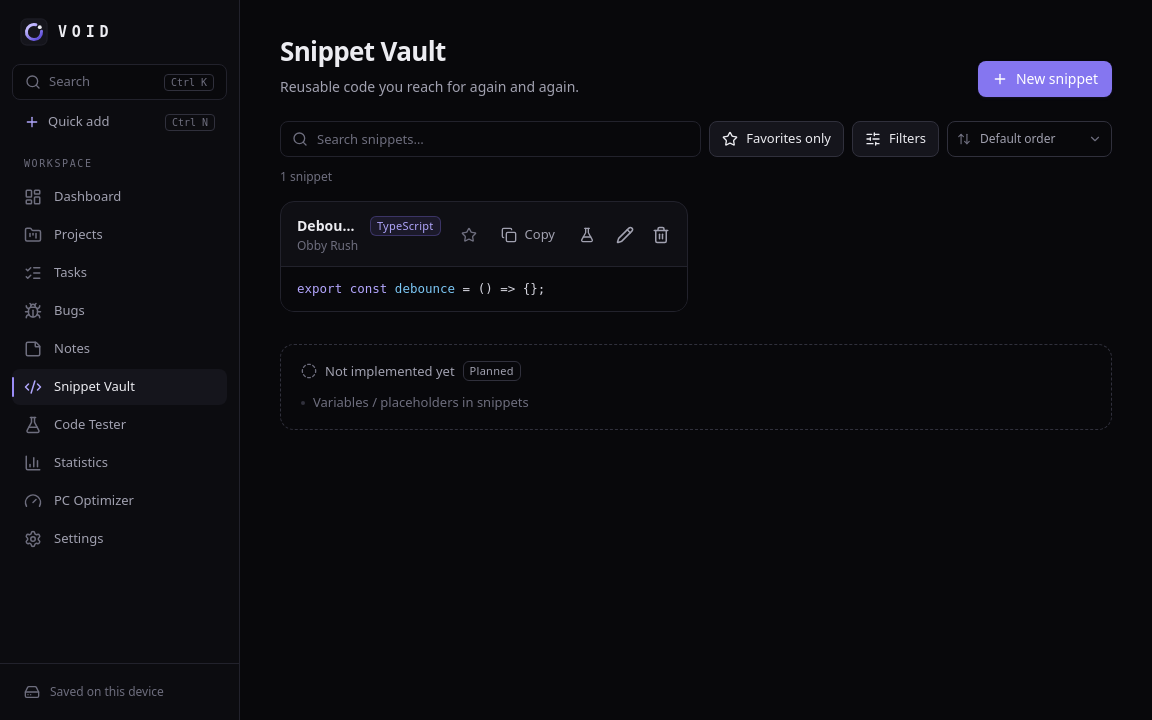
Test: undo after delete › restores a deleted snippet
Click the button named "Delete Debounce" at (661, 235), box [643, 217, 679, 253]
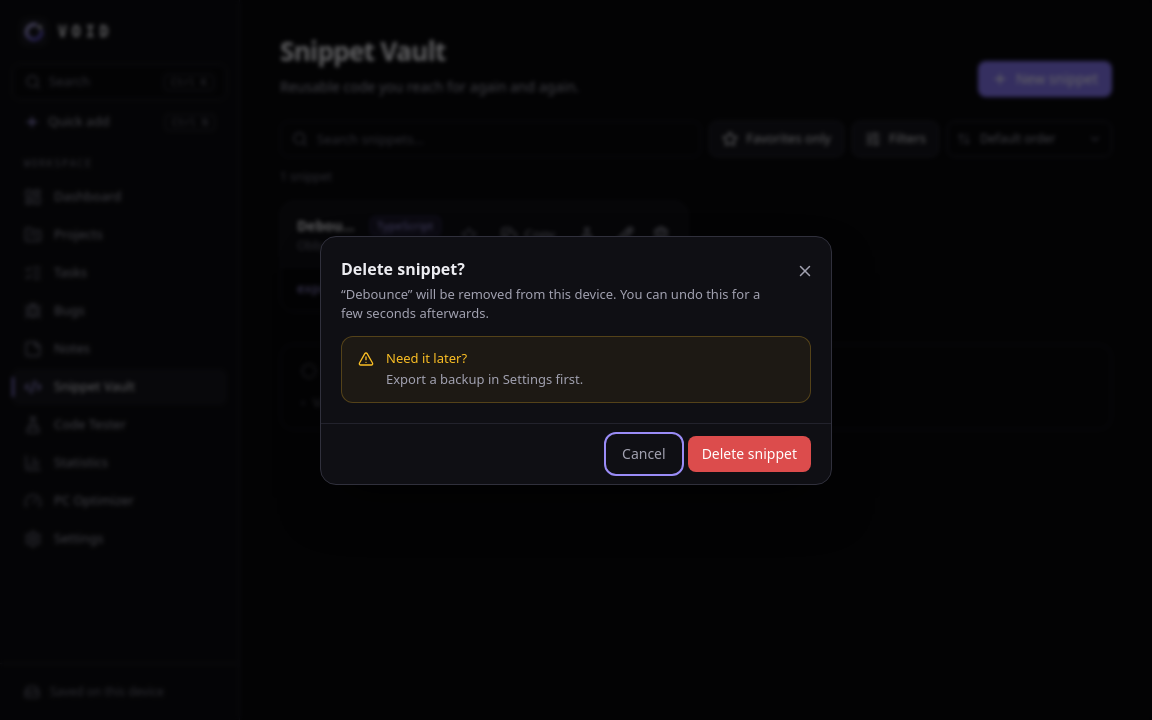
Click the button "Delete snippet" at (749, 454), box [688, 436, 811, 472]
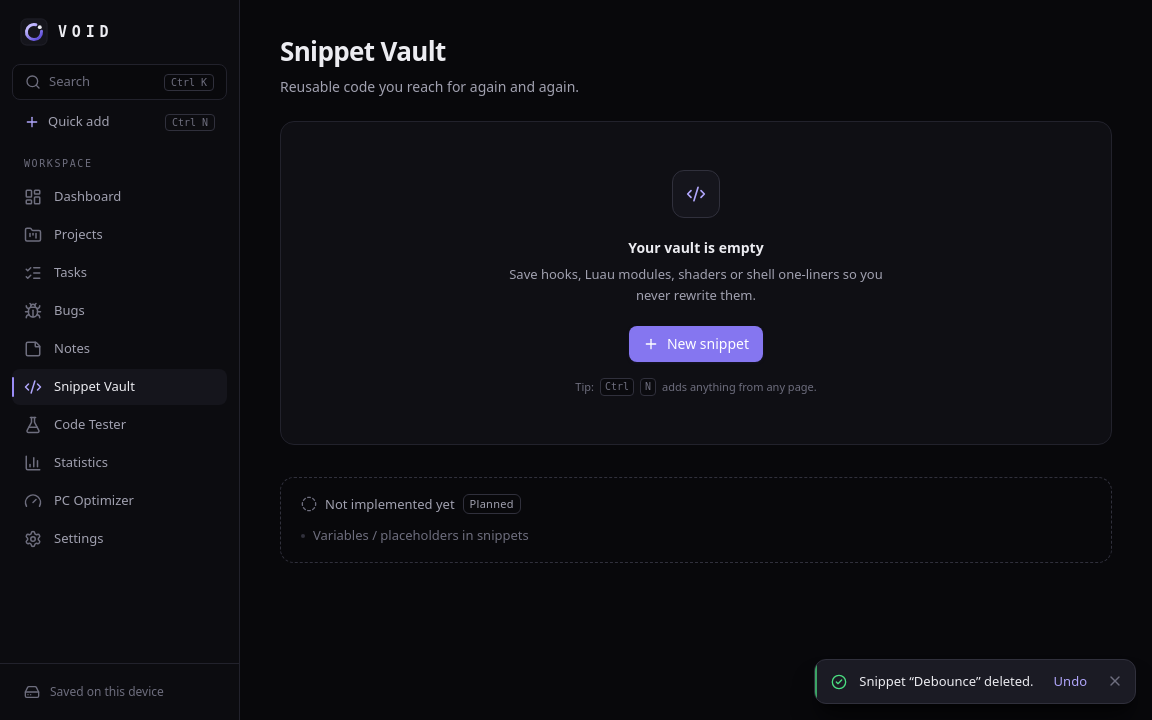
Click the button "Undo" at (1070, 681), box [1046, 670, 1095, 693]
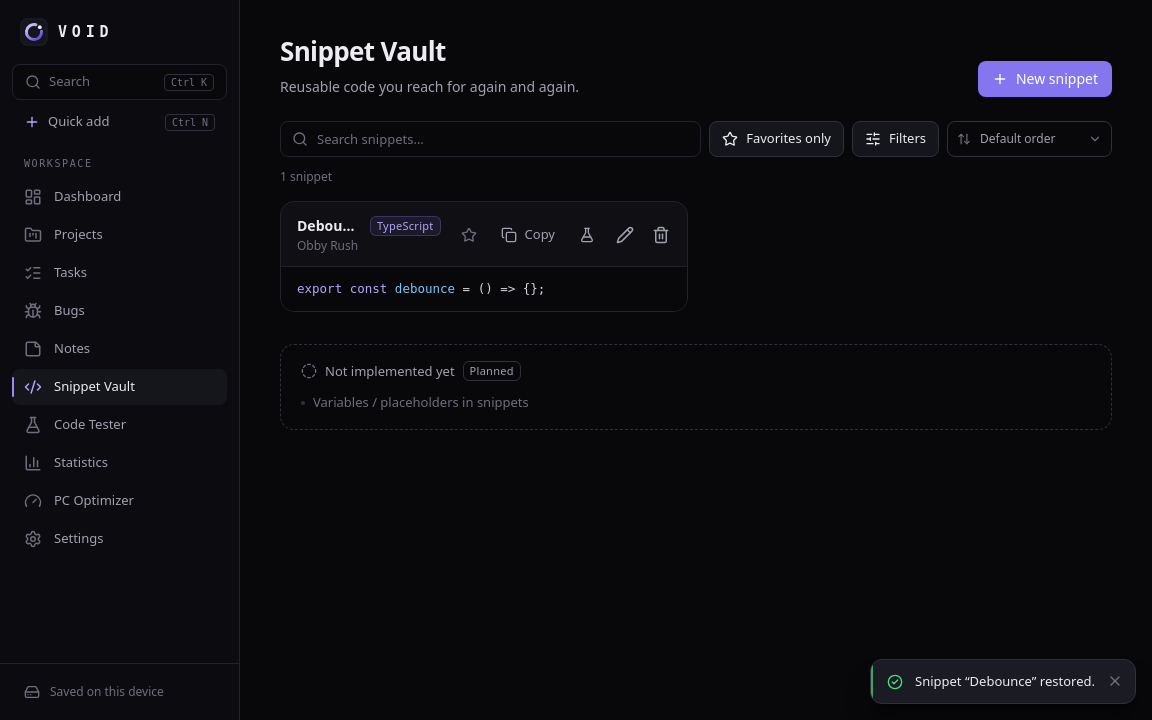
Result: the heading "Debounce" is shown at [297, 216, 362, 236]
